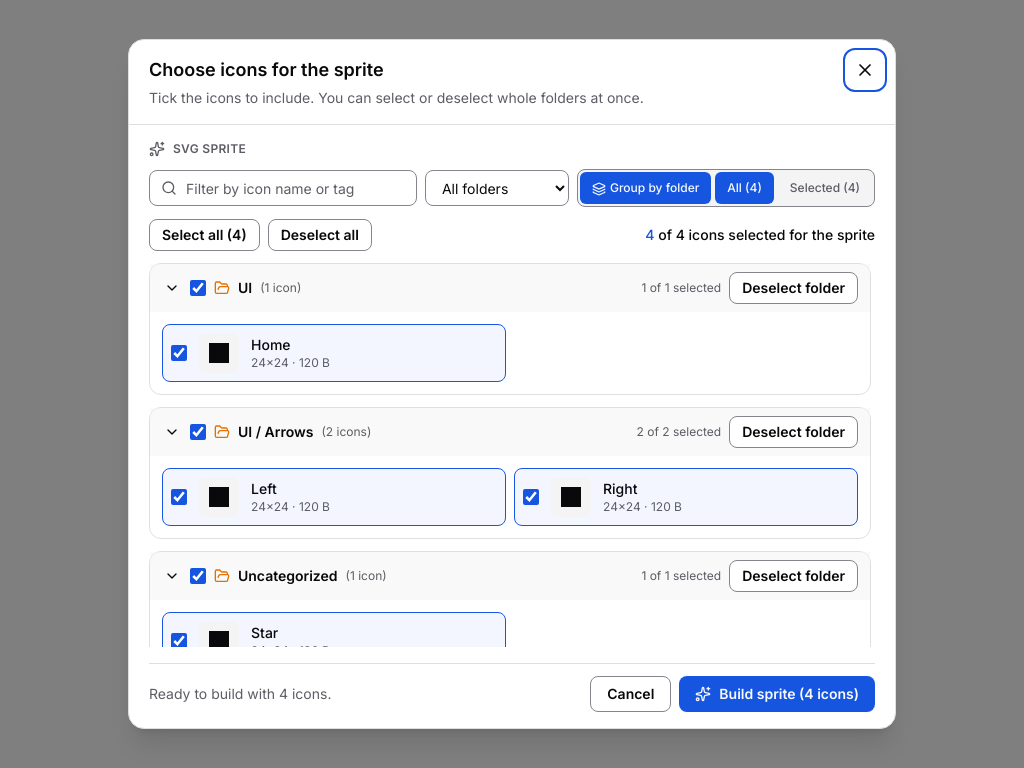
finding and choosing › filters by name or tag, and select all and deselect all apply to what is shown
Type "arrow" into the search field named "Filter the checklist by icon name or tag".
click(283, 188); type("arrow")  # box [149, 170, 417, 206]
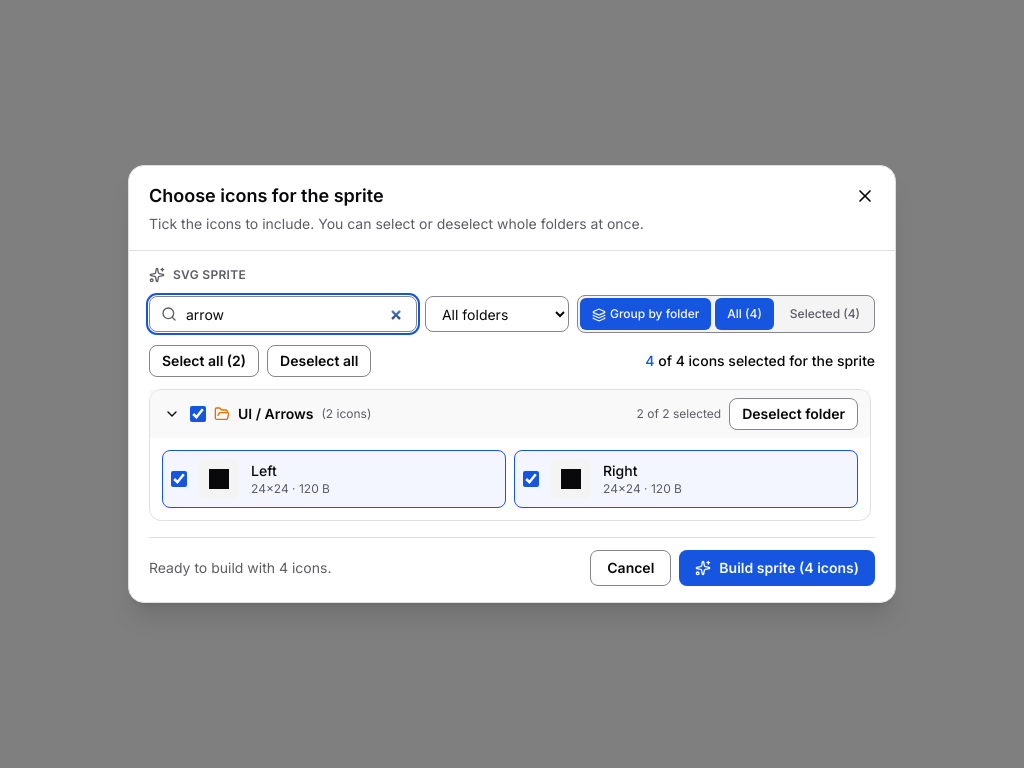
Expected: the checkbox labelled "Left 24×24 · 120 B" is shown, [171, 471, 187, 487]
Expected: the text "Home" is gone
Click the button "Deselect all".
click(319, 361)  # box [267, 345, 371, 377]
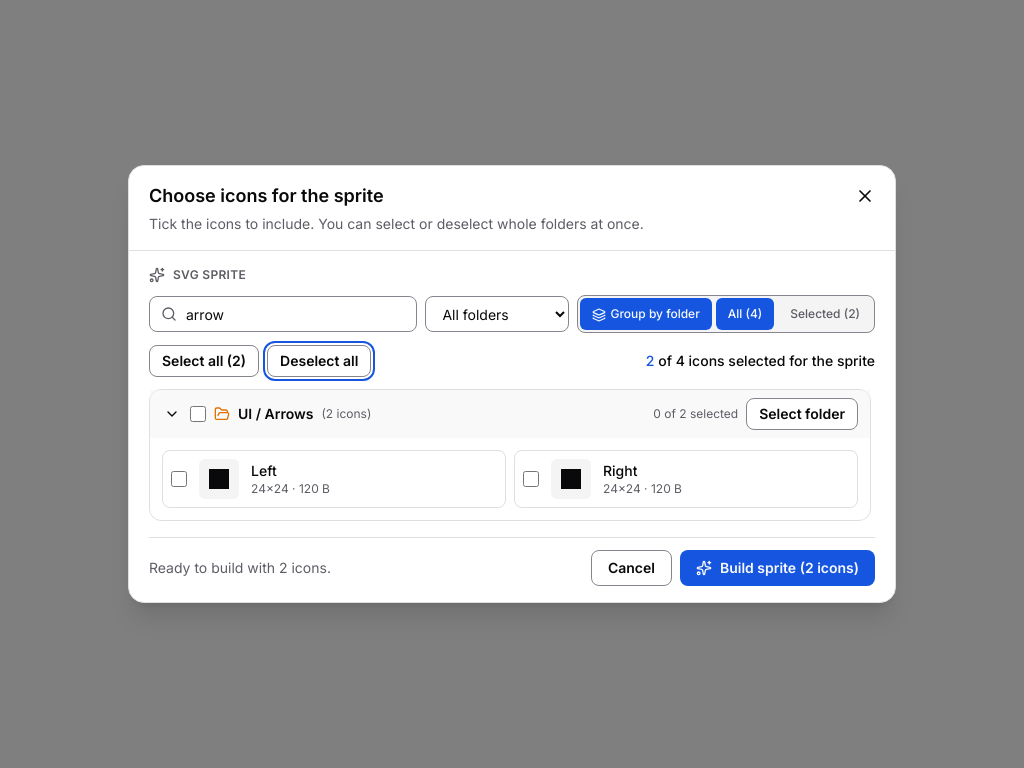
Expected: the text "2 of 4 icons selected for the sprite" is shown, [646, 351, 875, 371]
Click the button "Select all (2)".
click(204, 361)  # box [149, 345, 259, 377]
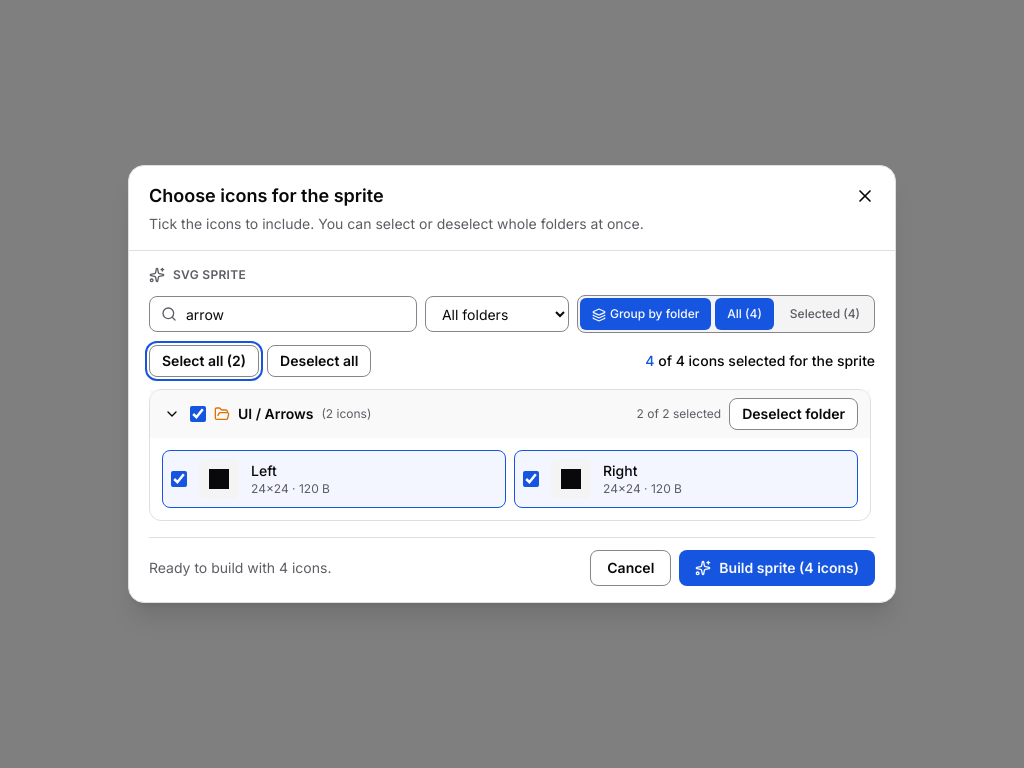
Expected: the text "4 of 4 icons selected for the sprite" is shown, [645, 351, 875, 371]
